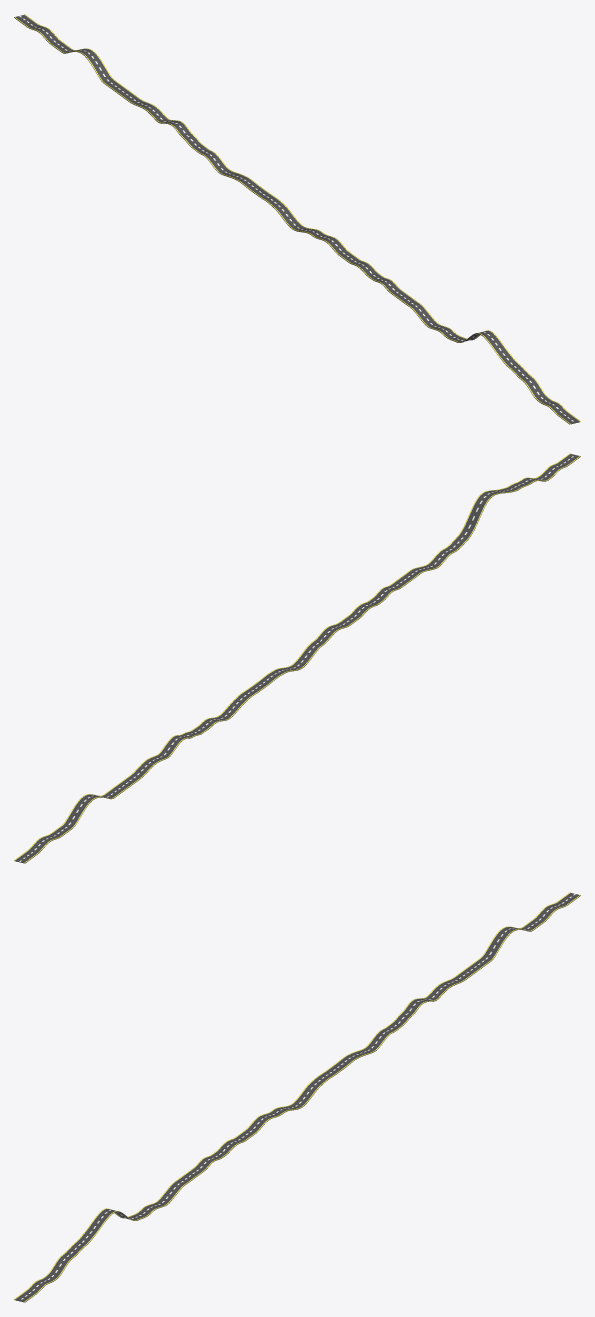
The model's file is godtierplatform2 (1).fbx.
The picture shows the model from 3 angles, top to bottom: view 1: azimuth 30°, elevation 25°; view 2: azimuth 150°, elevation 25°; view 3: azimuth 330°, elevation 25°; orthographic projection.
Visible parts, largest first — view 1: Plane.002; view 2: Plane.002; view 3: Plane.002.
Part boxes in pixels (x1,y1,x2,y2): Plane.002: (14,14,580,424); Plane.002: (14,453,580,863); Plane.002: (14,892,580,1302).
Bounding box in the file's own units: 577 × 1648 × 50000.
1 material, 1 textured.
